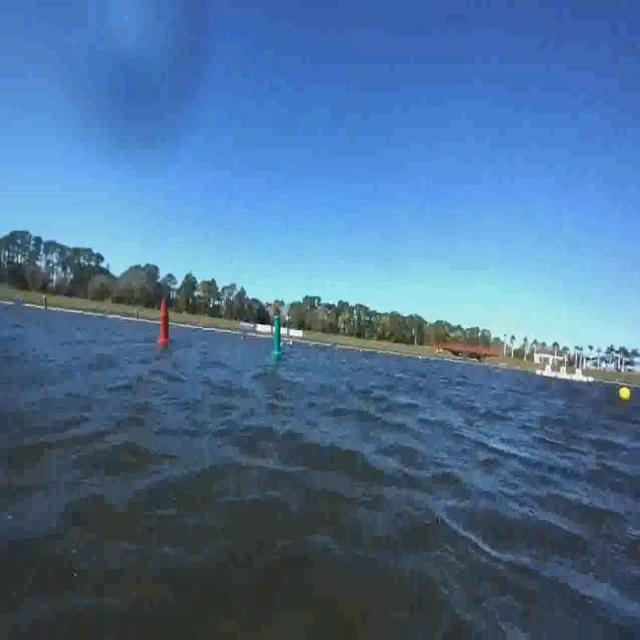green-column-buoy: (268, 304, 284, 358)
red-column-buoy: (151, 291, 175, 359)
